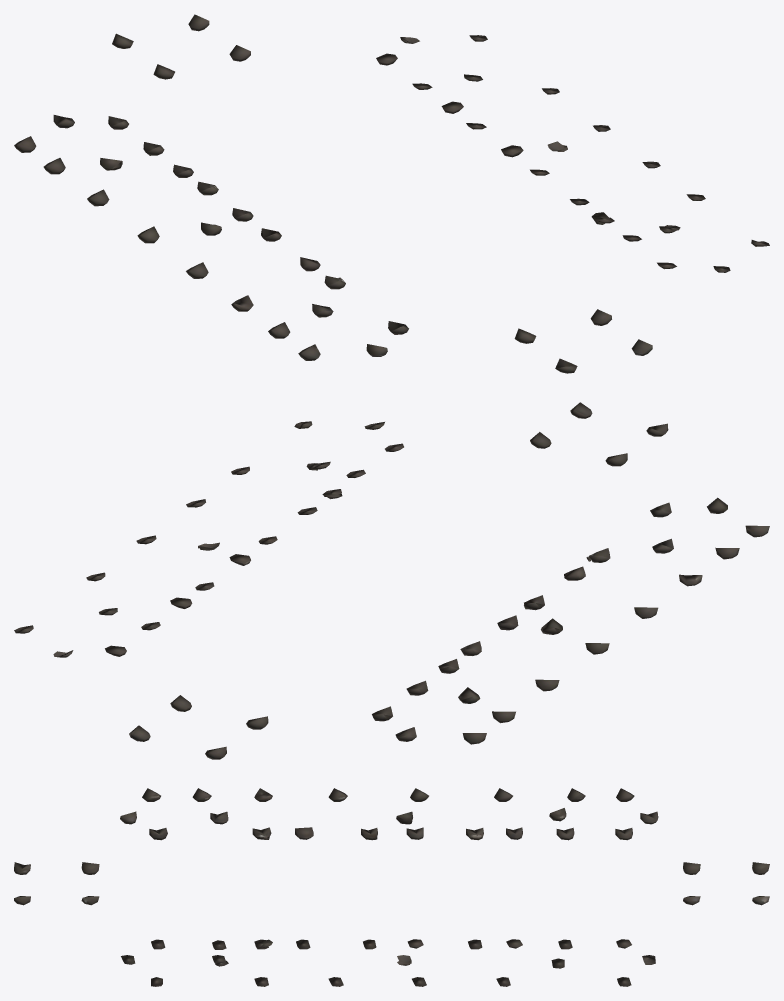
File: Furniture__conference_table_realistic_style_4beb41b8_v2.cluster.glb
The picture shows the model from 3 angles, top to bottom: view 1: azimuth 30°, elevation 25°; view 2: azimuth 150°, elevation 25°; view 3: azimuth 270°, elevation 25°; orthographic projection. The views are drawn at different scales.
Parts seen in each view (by area): view 1: texture_pbr_20250901; view 2: texture_pbr_20250901; view 3: texture_pbr_20250901.
Boxes of the visible parts, bbox=[...] form: texture_pbr_20250901: bbox=[14, 14, 769, 373]; texture_pbr_20250901: bbox=[14, 402, 769, 759]; texture_pbr_20250901: bbox=[14, 788, 769, 986].
Bounding box in the file's own units: 1.09 × 0.0215 × 1.81.
1 material, 1 textured.
